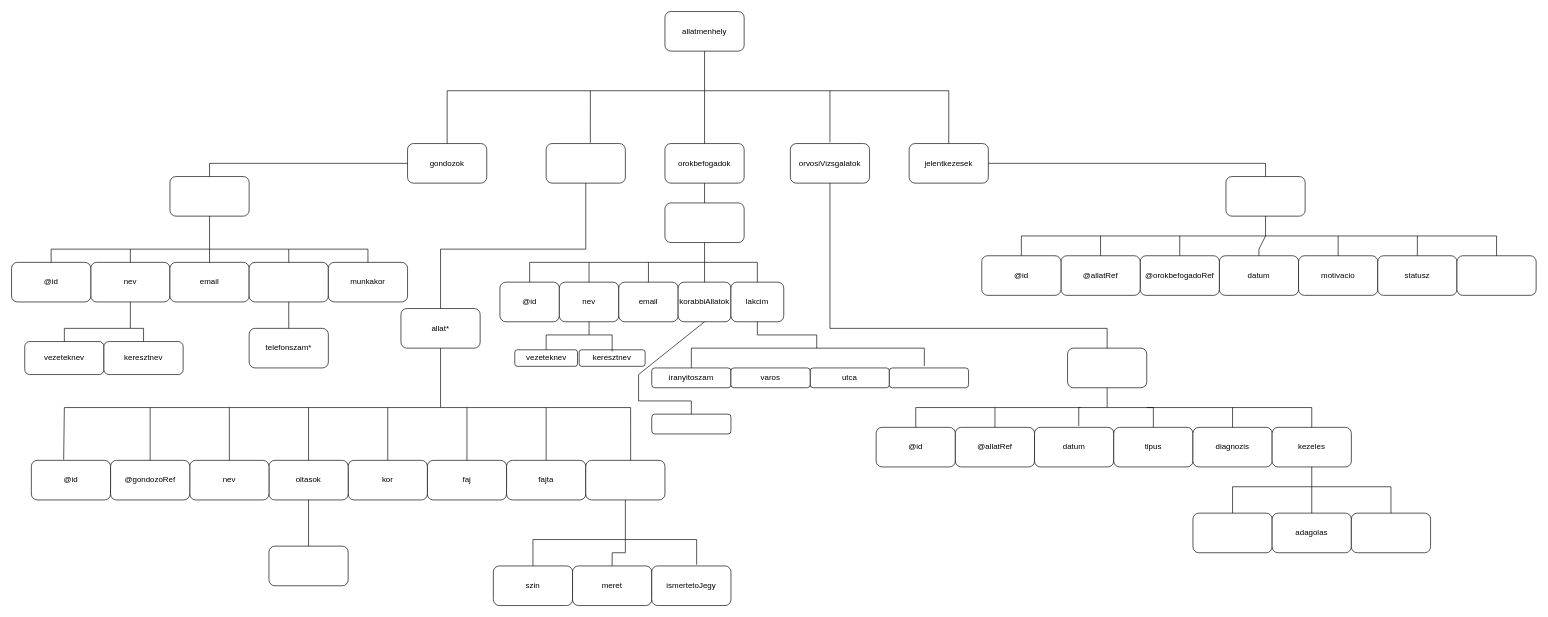
Image size: 1548x617. Some labels were removed from this diagram. The box of each missing label's shape, as (x1, y1, x2, y2) in pixels:
allatfaj*: (651, 413, 731, 434)
allatok: (545, 143, 625, 183)
gondozo*: (169, 176, 249, 216)
gyogyszer: (1192, 512, 1272, 553)
hazszam: (889, 367, 969, 388)
jelentkezes*: (1225, 176, 1305, 216)
leiras: (585, 460, 665, 500)
megjegyzes: (1456, 255, 1536, 295)
oltas*: (268, 545, 348, 586)
orokbefogado*: (664, 202, 744, 243)
telefonszamok: (248, 262, 328, 302)
vizsgalat*: (1067, 347, 1147, 388)
